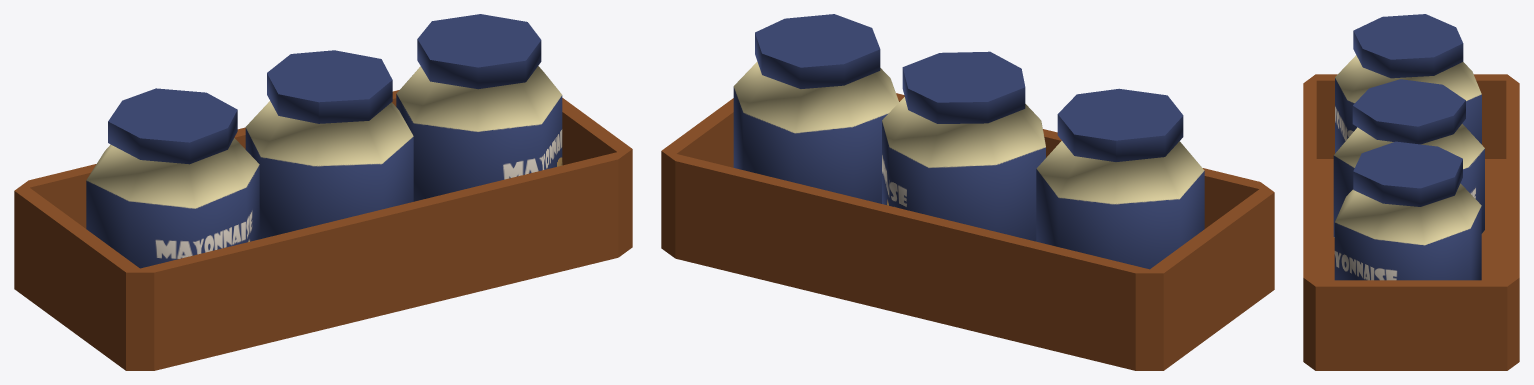
Rendered from MaYo_box.fbx.
The picture shows the model from 3 angles, left to right: view 1: azimuth 30°, elevation 25°; view 2: azimuth 150°, elevation 25°; view 3: azimuth 270°, elevation 25°; orthographic projection. The views are drawn at different scales.
Parts seen in each view (by area): view 1: Cube.072; view 2: Cube.072; view 3: Cube.072.
Boxes of the visible parts, x1,y1,x2,y2 form: Cube.072: (14,14,632,370); Cube.072: (661,14,1274,370); Cube.072: (1303,14,1519,370).
Bounding box in the file's own units: 95.9 × 34.61 × 41.28.
2 materials, 1 textured.
